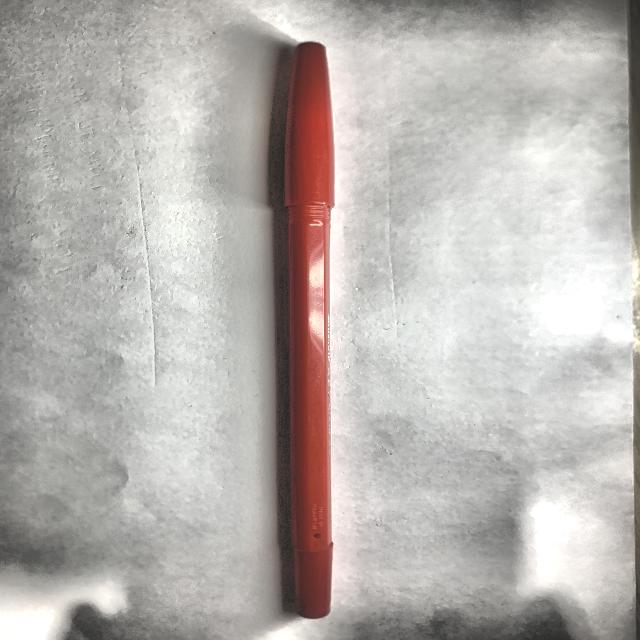Pulpen: (261, 42, 354, 627)
